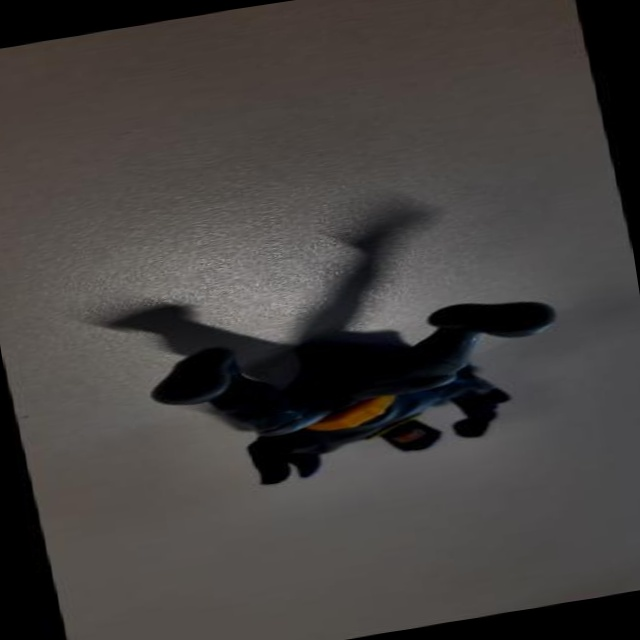Batman: (137, 288, 581, 509)
